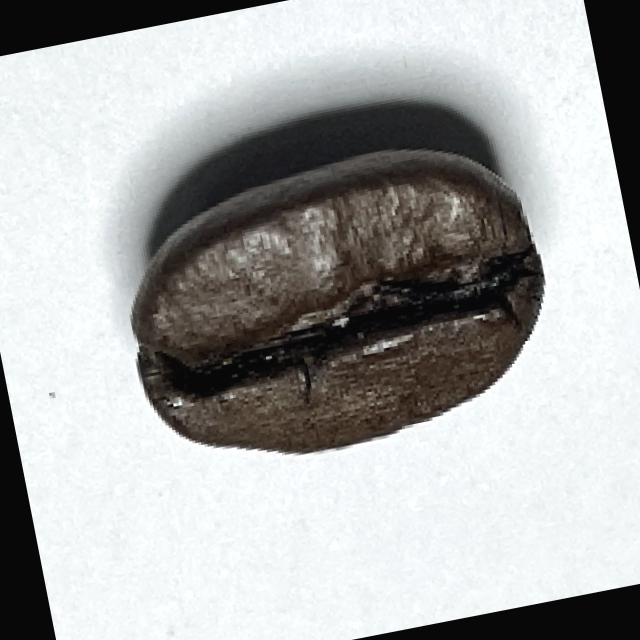bean: (102, 123, 572, 484)
